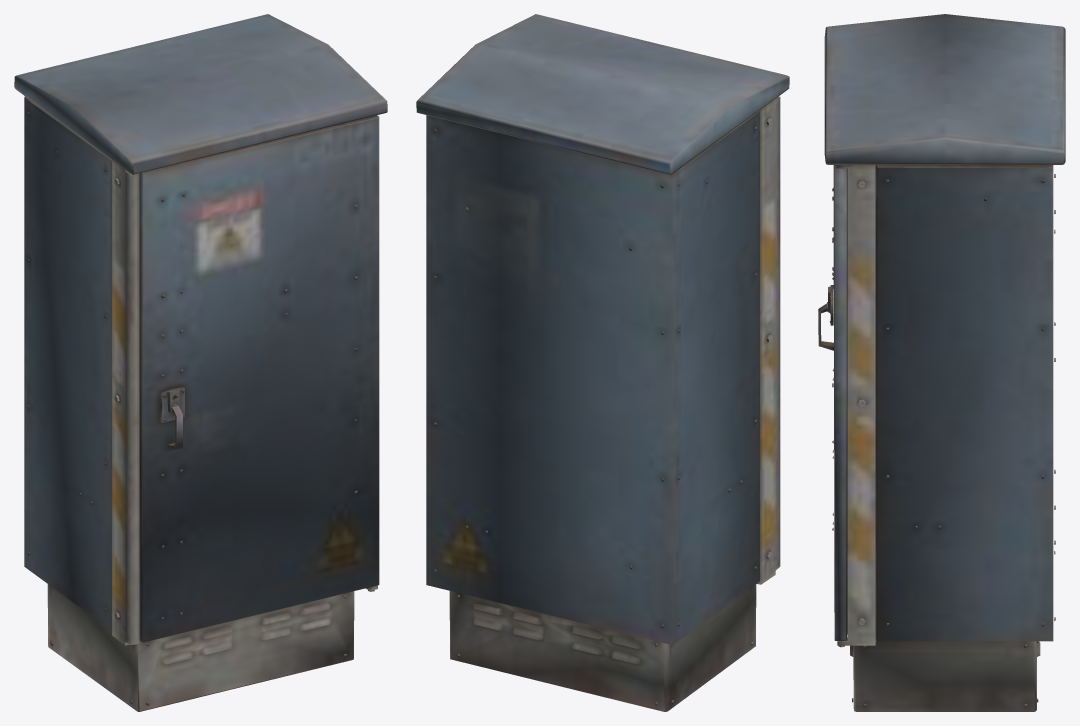
File: utility-box.lite.65eb96f2.glb
3 views of the same model, side by side, from view 1: azimuth 30°, elevation 25°; view 2: azimuth 150°, elevation 25°; view 3: azimuth 270°, elevation 25° (orthographic).
Visible parts, largest first — view 1: model; view 2: model; view 3: model.
Part boxes in pixels (left/top/right/bottom): model: left=14, top=14, right=387, bottom=711; model: left=416, top=14, right=789, bottom=711; model: left=818, top=14, right=1065, bottom=711.
Bounding box in the file's own units: 0.52 × 1.12 × 0.4312.
Materials: 1 (1 with a texture image).
